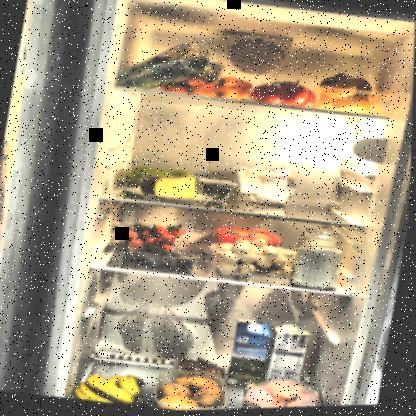apple: (126, 160, 196, 195)
banana: (72, 367, 156, 409)
blueberries: (131, 244, 198, 279)
butter: (213, 225, 283, 258)
carrot: (159, 66, 257, 105)
cheese: (140, 171, 202, 204)
chicken: (241, 372, 337, 409)
milk: (227, 317, 280, 395), (265, 323, 314, 398)
mushrooms: (206, 232, 299, 286)
onion: (317, 73, 379, 120)
potato: (151, 364, 232, 411)
shrimp: (177, 353, 230, 382)
spinach: (113, 33, 226, 101)
strawberries: (118, 218, 190, 259)
tomato: (250, 76, 322, 114)
